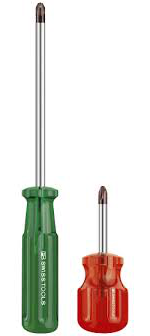Screwdriver: (13, 1, 68, 331), (77, 174, 132, 331)
